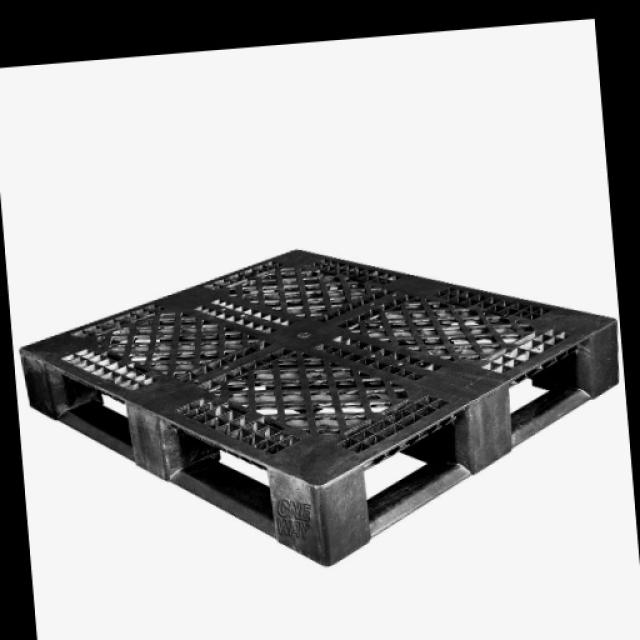non-igps: (15, 243, 624, 571)
